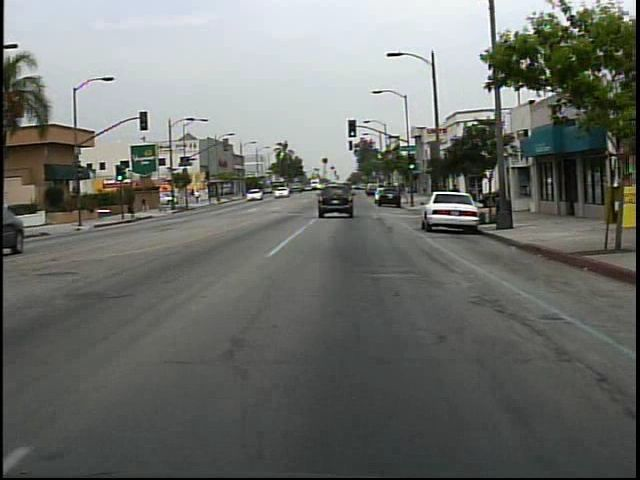person: (445, 179, 465, 217), (136, 191, 156, 220), (194, 188, 203, 207)
